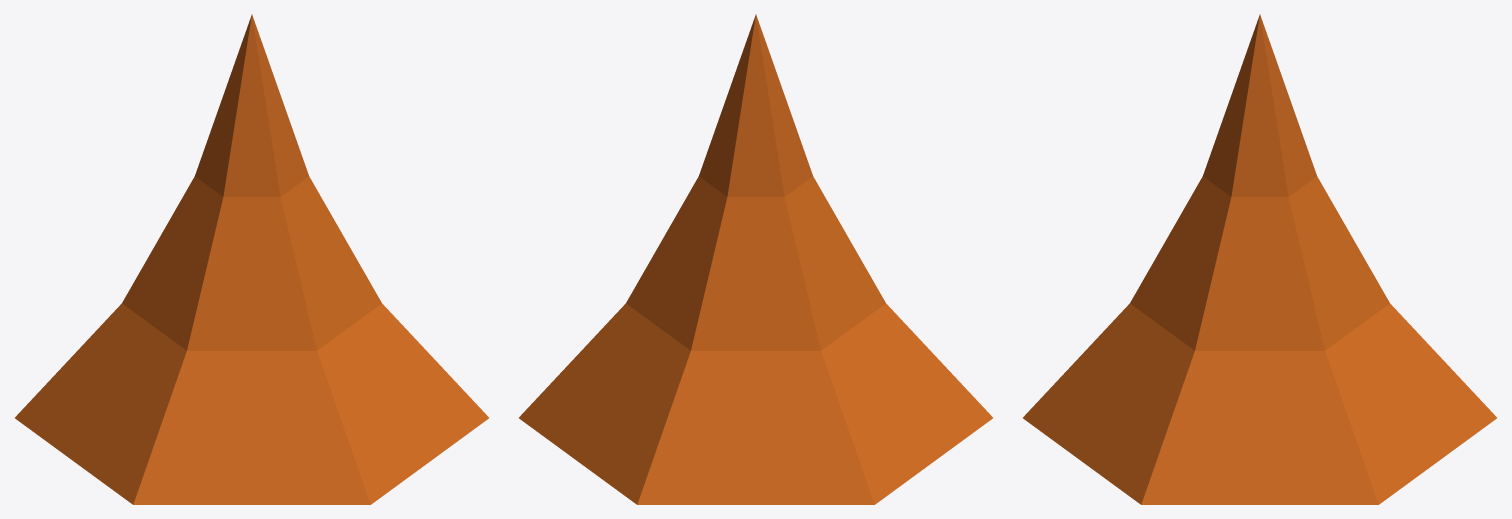
The model's file is RPG_Tiles_Hex_Building_Roof_02.FBX.
The picture shows the model from 3 angles, left to right: view 1: azimuth 30°, elevation 25°; view 2: azimuth 150°, elevation 25°; view 3: azimuth 270°, elevation 25°; orthographic projection.
Visible parts, largest first — view 1: RPG_Tiles_Hex_Building_Roof_02; view 2: RPG_Tiles_Hex_Building_Roof_02; view 3: RPG_Tiles_Hex_Building_Roof_02.
Boxes of the visible parts, x1=… form: RPG_Tiles_Hex_Building_Roof_02: x1=15, y1=14, x2=488, y2=504; RPG_Tiles_Hex_Building_Roof_02: x1=519, y1=14, x2=992, y2=504; RPG_Tiles_Hex_Building_Roof_02: x1=1023, y1=14, x2=1496, y2=504.
Size of the model in its own units: 3000 by 3251 by 3464.
